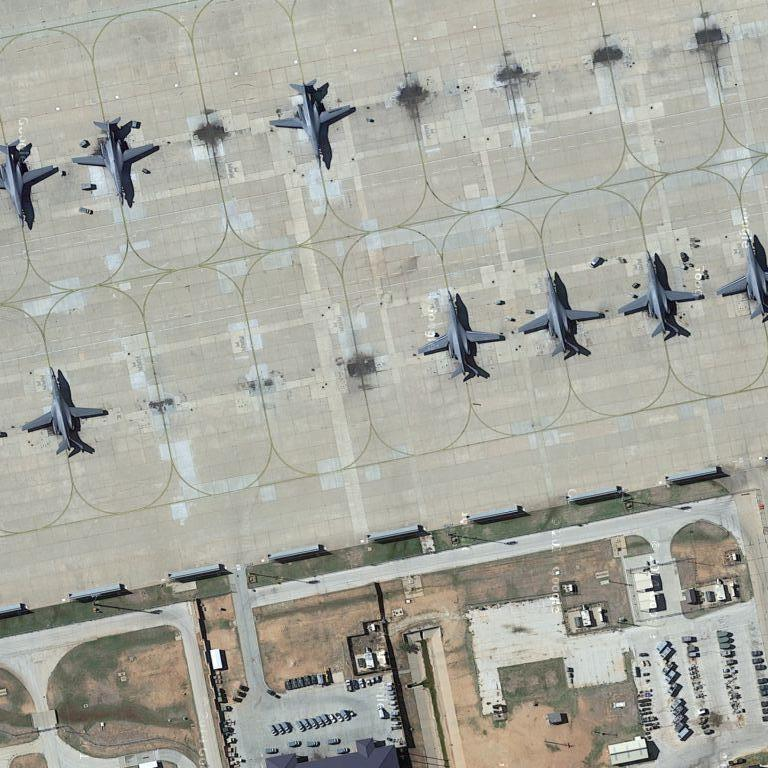B-1B: (418, 283, 505, 388), (619, 245, 704, 350), (21, 364, 110, 461), (70, 112, 157, 209), (520, 268, 603, 365), (271, 76, 354, 171), (1, 130, 62, 229), (721, 236, 766, 323)
